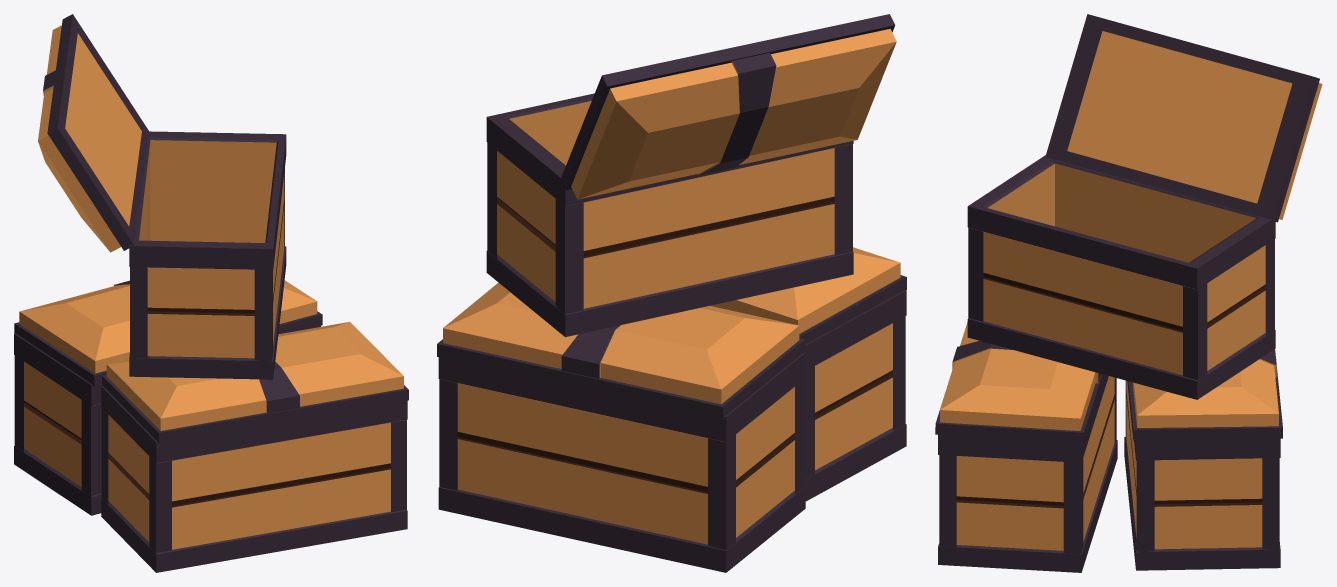
File: GoldChest.fbx
3 renders of one model, left to right at view 1: azimuth 30°, elevation 25°; view 2: azimuth 150°, elevation 25°; view 3: azimuth 270°, elevation 25°, orthographic. The views are drawn at different scales.
Parts seen in each view (by area): view 1: Chests; view 2: Chests; view 3: Chests.
Boxes of the visible parts, x1,y1,x2,y2 form: Chests: (14,14,408,572); Chests: (437,14,906,572); Chests: (935,14,1322,572).
Size of the model in its own units: 353 by 458 by 386.
